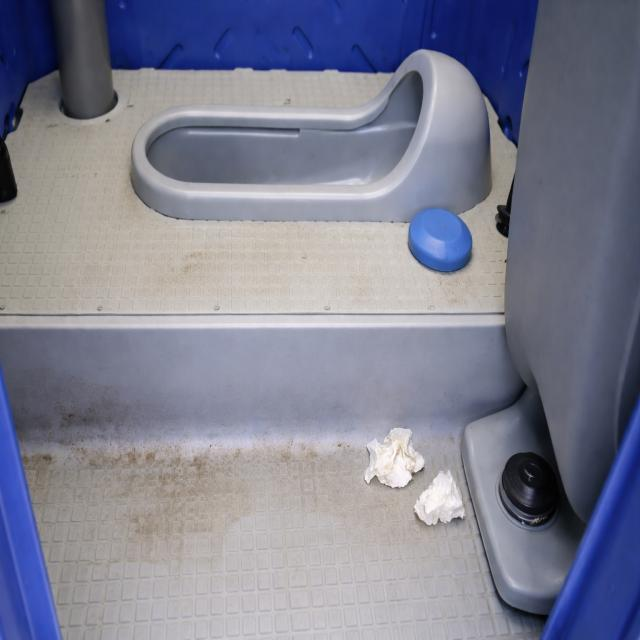dirty_area: (11, 370, 342, 551), (152, 227, 283, 292)
garbage: (350, 408, 470, 562)
